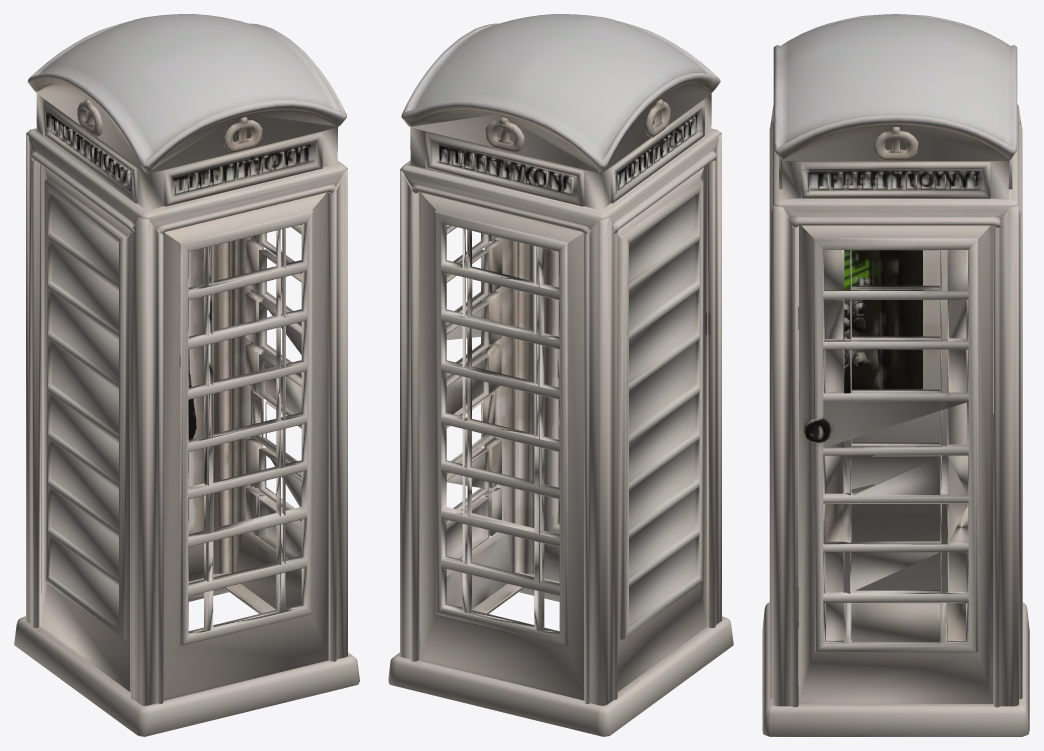
File: a_phone_booth_c1e7aa8c_v2.glb
3 renders of one model, left to right at view 1: azimuth 30°, elevation 25°; view 2: azimuth 150°, elevation 25°; view 3: azimuth 270°, elevation 25°, orthographic. The views are drawn at different scales.
Parts seen in each view (by area): view 1: material; view 2: material; view 3: material.
Boxes of the visible parts, box(x1,y1,x2,y2) form: material: box(14, 14, 359, 736); material: box(388, 14, 733, 736); material: box(762, 14, 1029, 736).
Size of the model in its own units: 0.7049 by 1.9 by 0.7128.
Materials: 1 (1 with a texture image).
